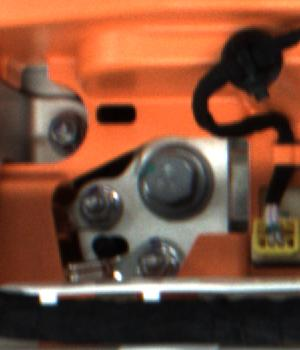nut_b: (131, 145, 219, 220)
